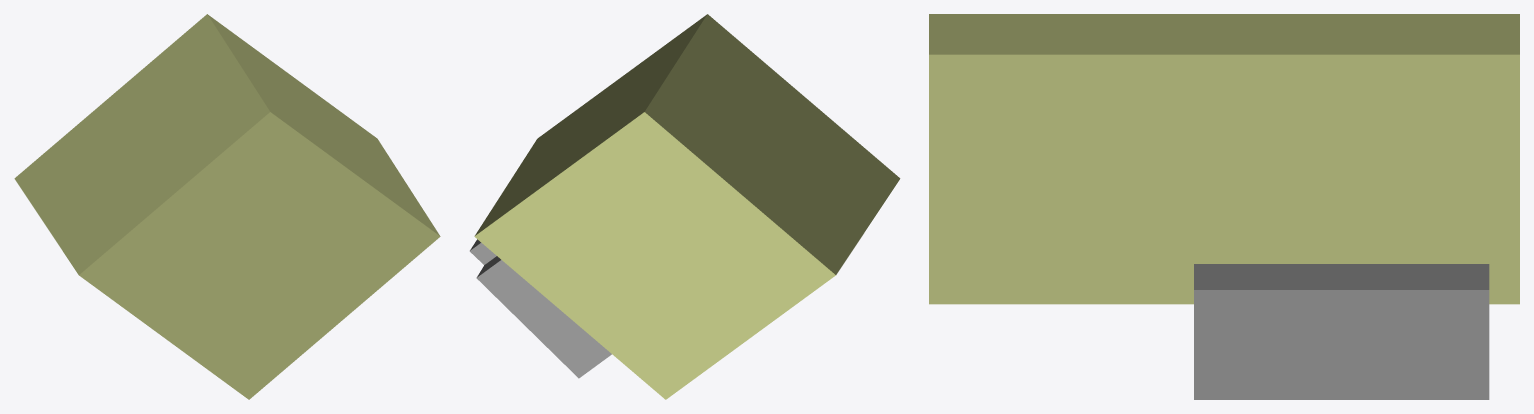
The picture shows the model from 3 angles, left to right: view 1: azimuth 30°, elevation 25°; view 2: azimuth 150°, elevation 25°; view 3: azimuth 270°, elevation 25°; orthographic projection. The views are drawn at different scales.
Parts seen in each view (by area): view 1: 0_1_1_3_2_2_3_0_2_0_0_1; view 2: 0_1_1_3_2_2_3_0_2_0_0_1; view 3: 0_1_1_3_2_2_3_0_2_0_0_1.
Boxes of the visible parts, <box> form: 0_1_1_3_2_2_3_0_2_0_0_1: <box>14,14,440,399</box>; 0_1_1_3_2_2_3_0_2_0_0_1: <box>469,14,900,399</box>; 0_1_1_3_2_2_3_0_2_0_0_1: <box>929,14,1519,399</box>.
Size of the model in its own units: 5.48 by 4.64 by 6.
